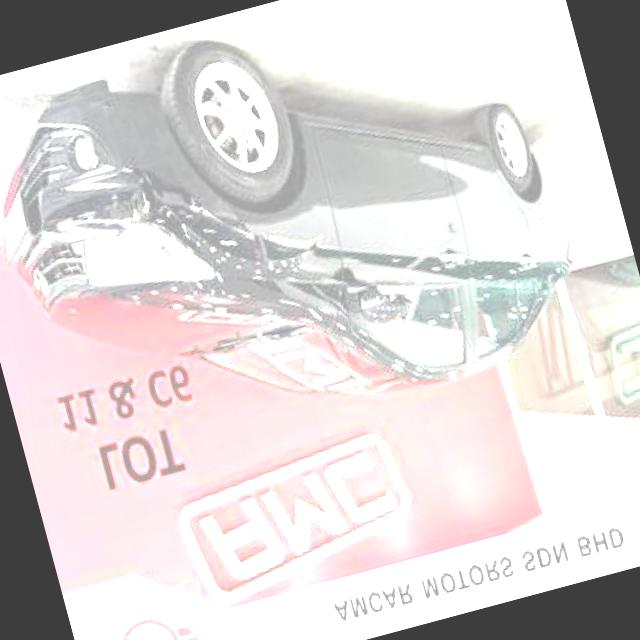PeroduaBezza: (0, 0, 602, 486)
